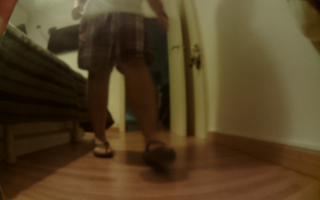person: (72, 1, 178, 169)
